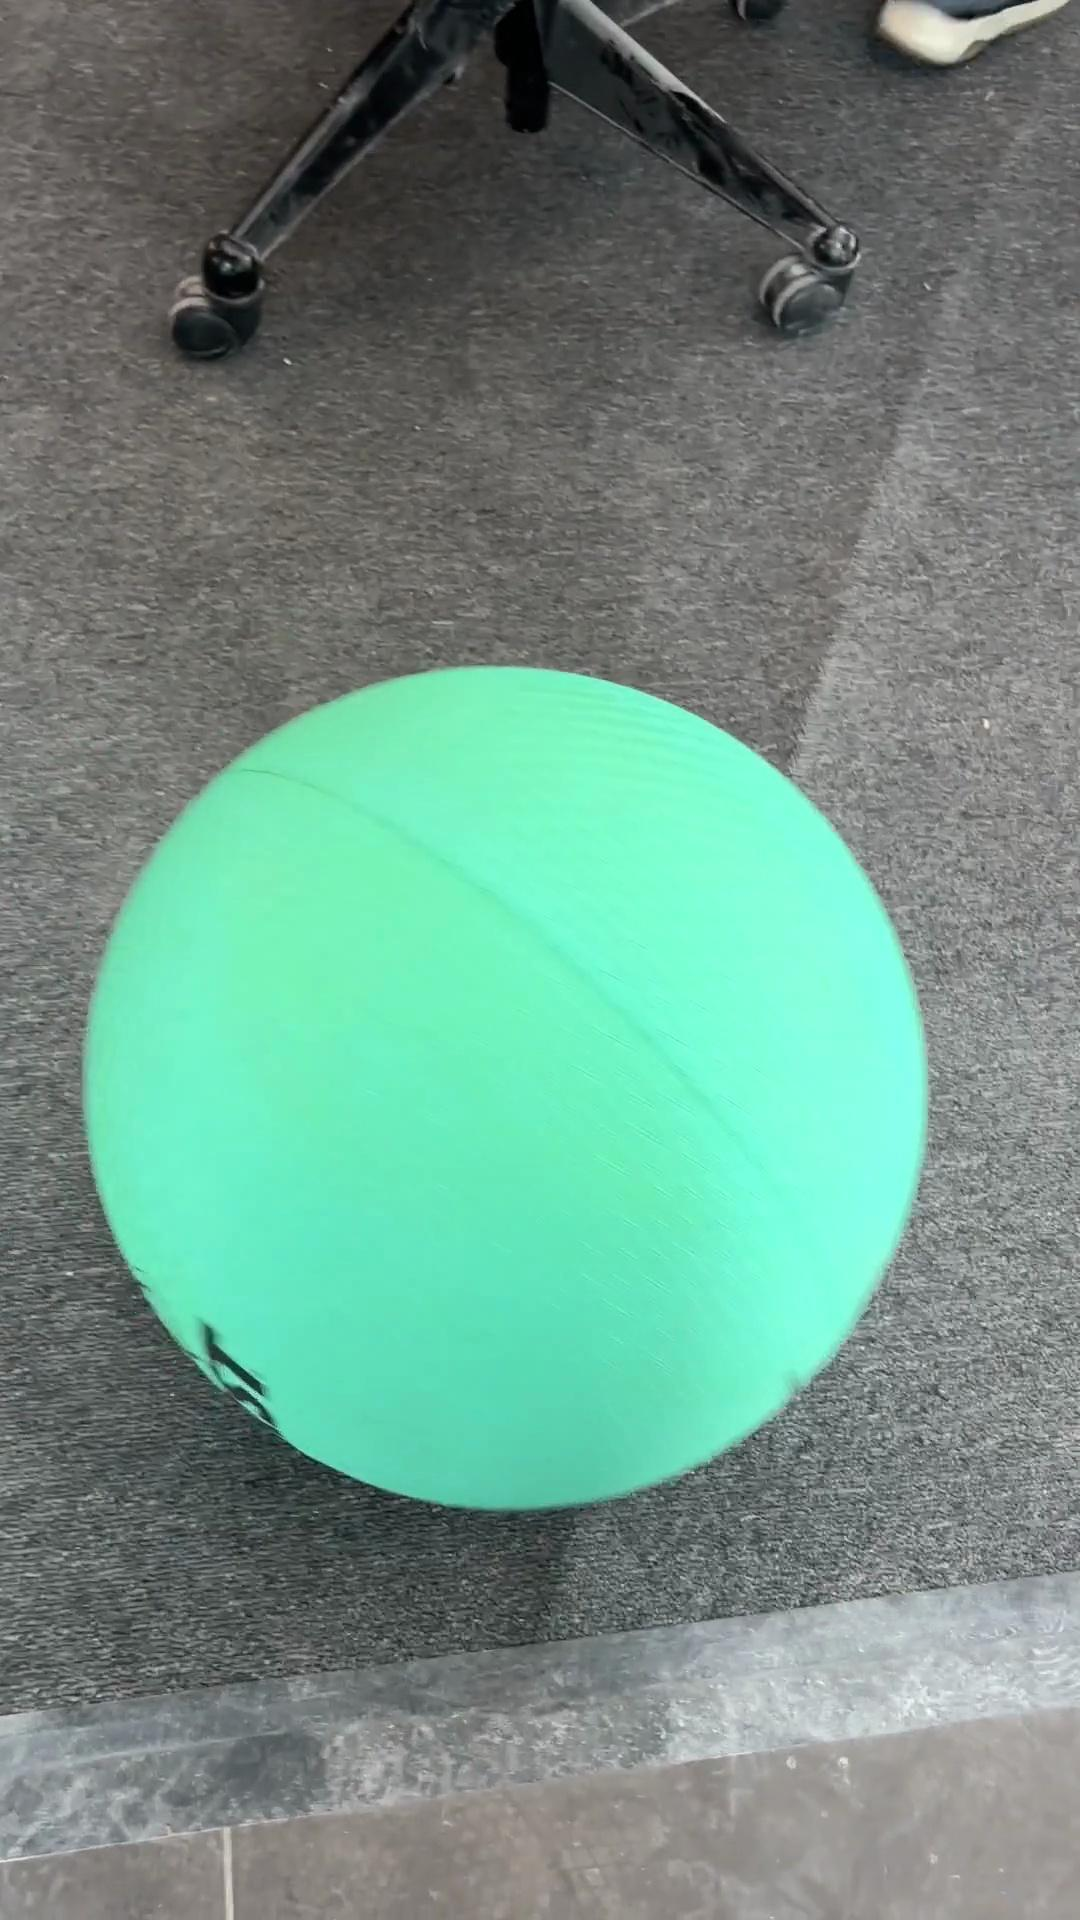ALGAE: (79, 659, 931, 1515)
